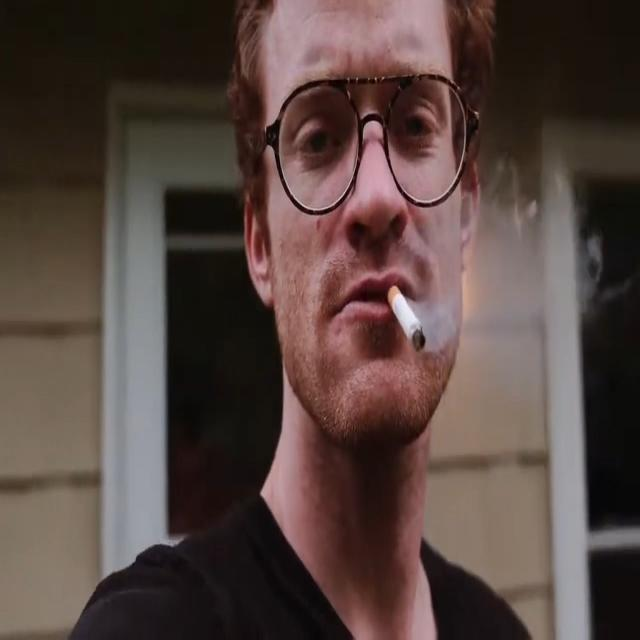Курение: (385, 281, 427, 355)
